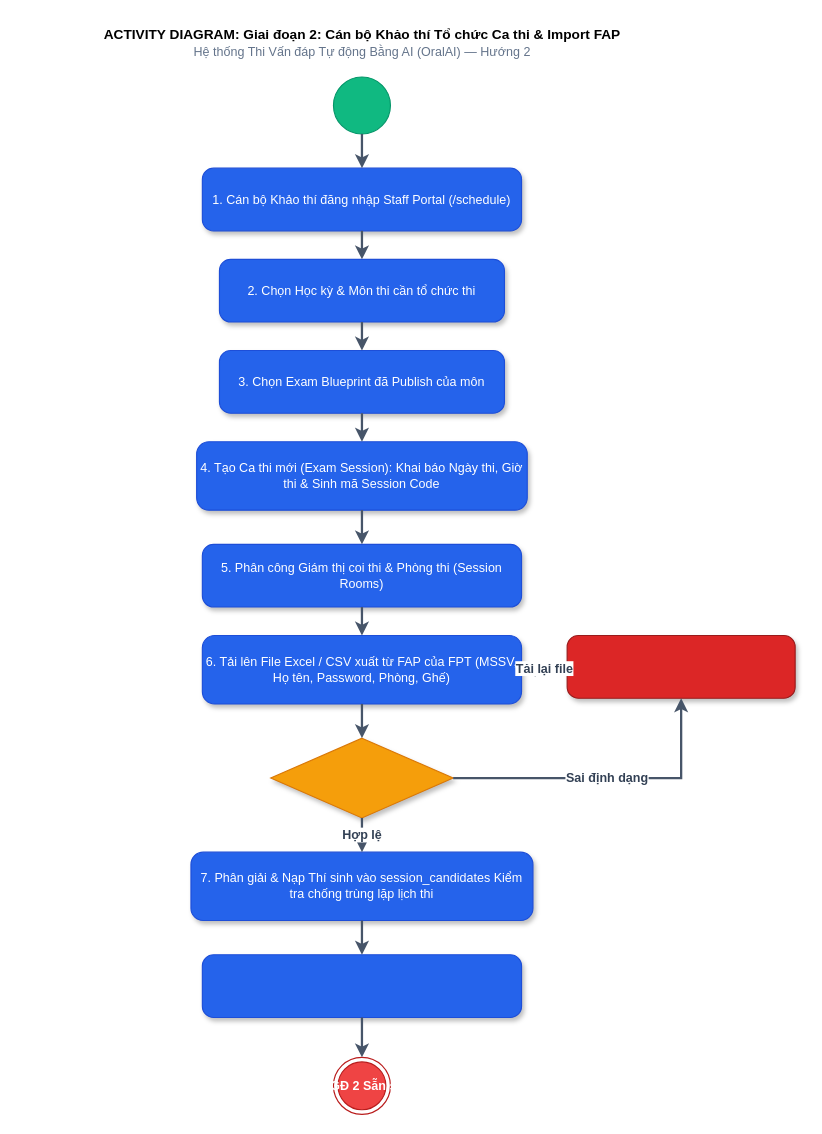
Some shapes in this 822 by 1134 pixel diagram are drawn without their labels. Each missing label, with the centre of its shape:
"8. Chuyển trạng thái Ca thi thành READY (Sẵn sàng kích hoạt sinh đề ATA)" belongs at point 362,987.
"Báo lỗi dòng sai định dạng Yêu cầu chuẩn hóa lại file" belongs at point 681,668.
"Bắt đầu" belongs at point 361,105.
"Kiểm tra định dạng File Excel FAP?" belongs at point 362,779.
